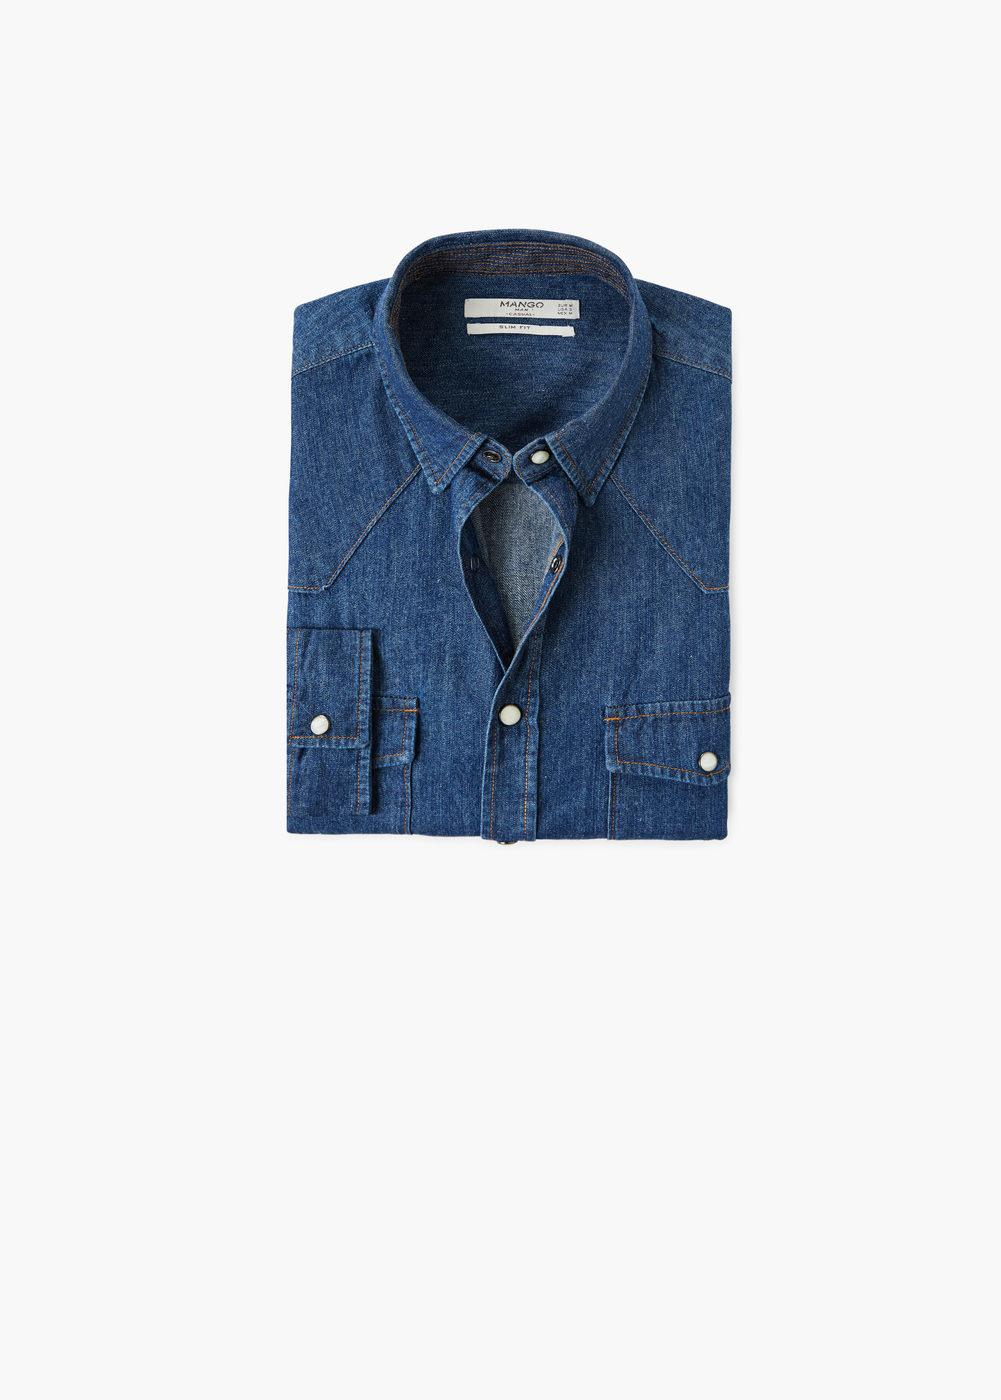teeshirt: (259, 223, 772, 895)
